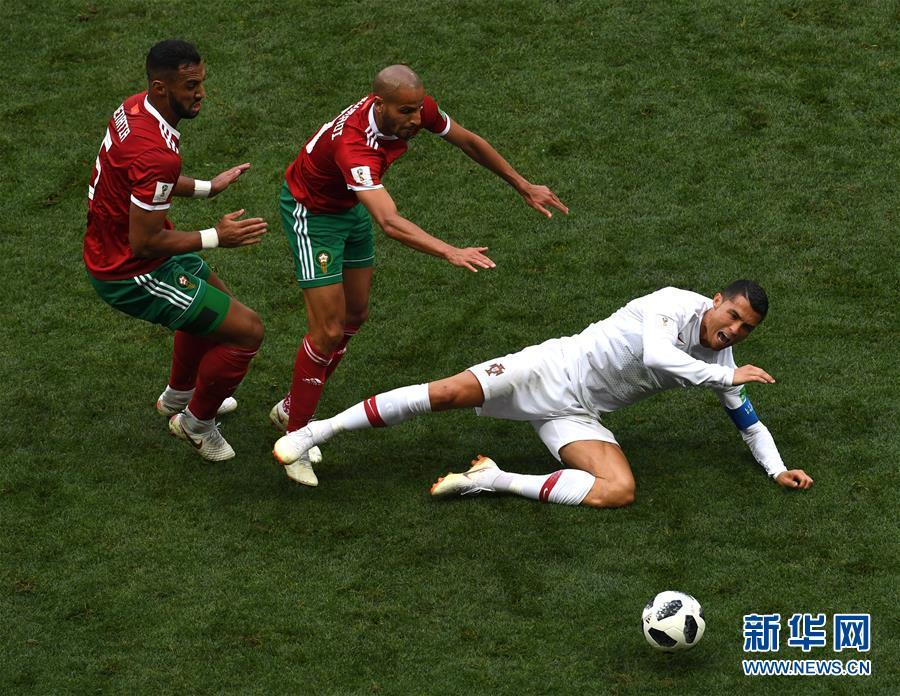bending: (274, 61, 577, 451), (78, 29, 271, 467)
down: (269, 281, 817, 521)
